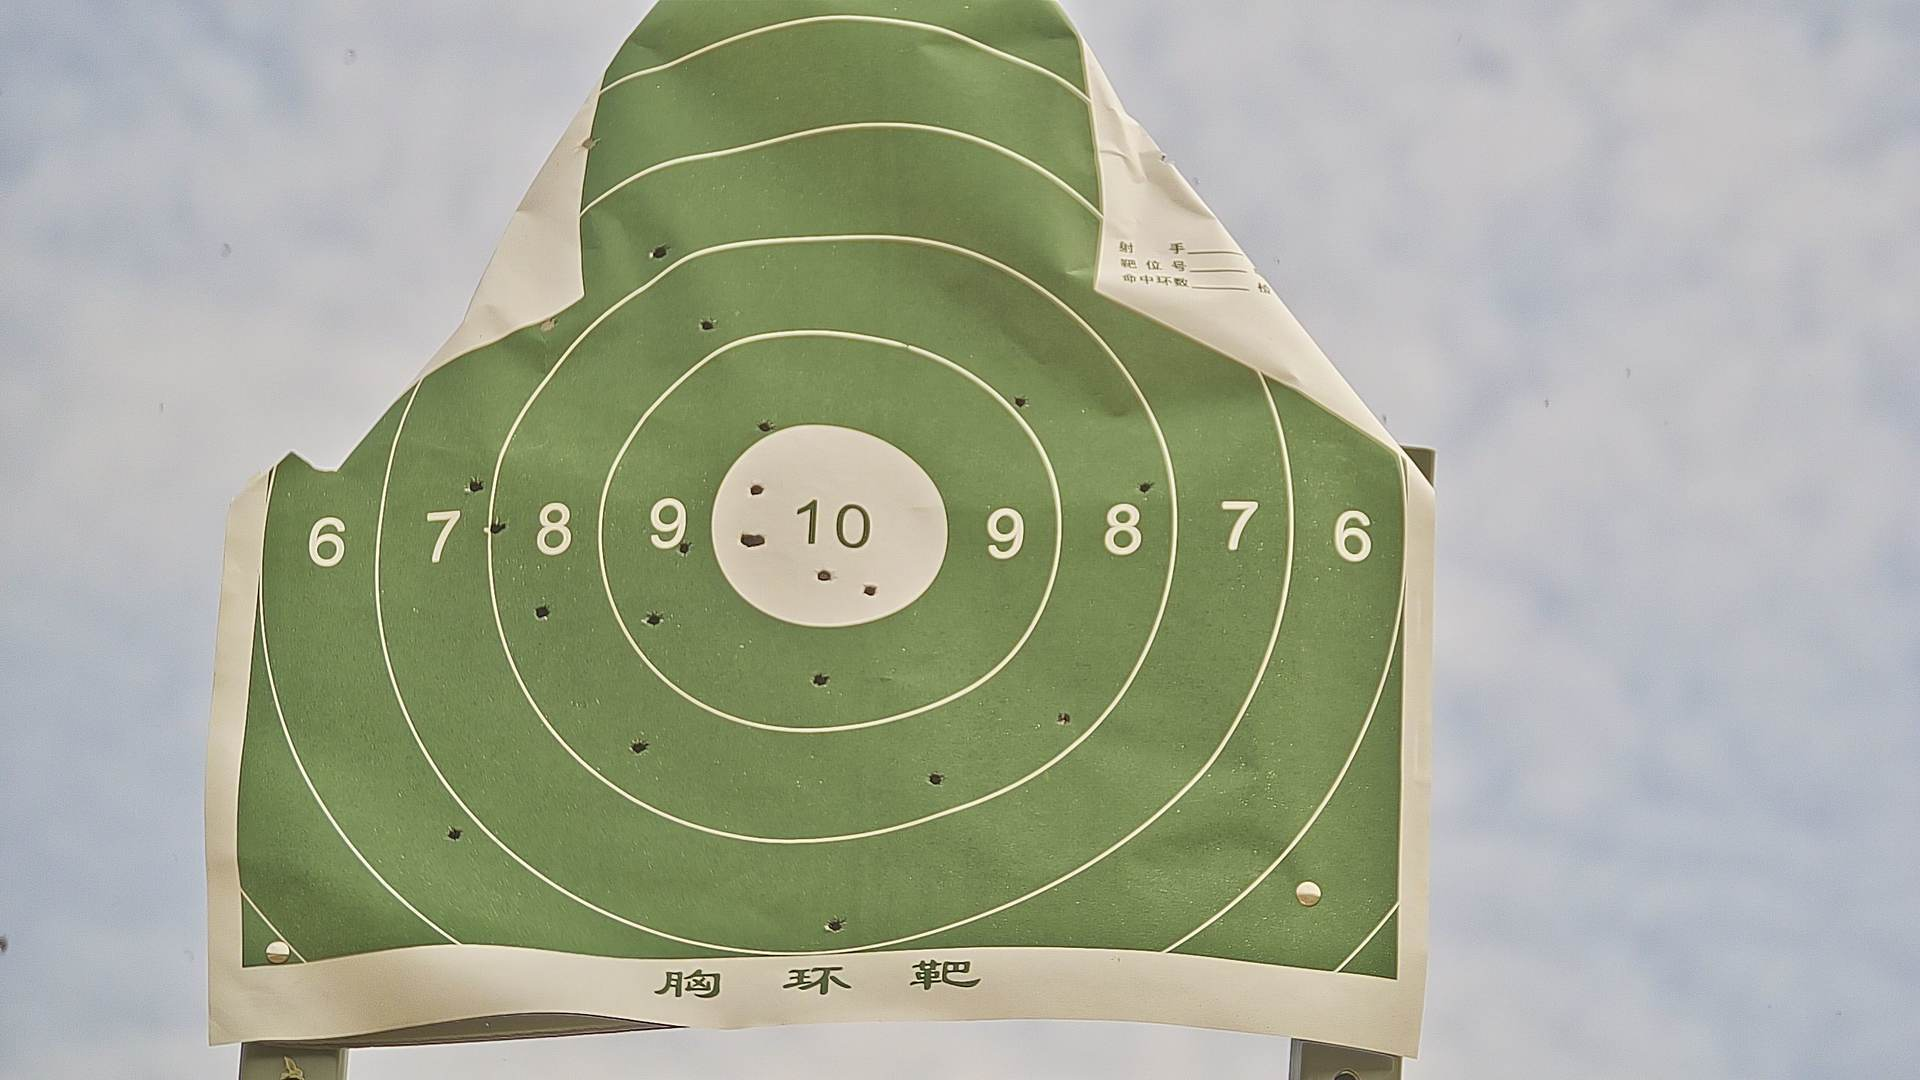hole: (644, 612, 665, 628), (467, 479, 484, 495), (812, 673, 829, 687), (488, 522, 506, 535), (757, 419, 773, 434), (749, 534, 765, 549), (676, 539, 690, 556), (827, 919, 844, 932), (738, 530, 750, 549), (583, 135, 599, 148), (535, 605, 549, 621), (748, 483, 764, 496), (928, 773, 944, 786), (1014, 396, 1029, 409), (1058, 713, 1072, 727), (651, 247, 667, 258), (699, 318, 715, 330), (539, 319, 556, 330), (630, 742, 647, 753), (818, 568, 831, 582), (448, 827, 460, 841), (864, 584, 878, 595), (1139, 483, 1153, 493)
kernel: (822, 524, 827, 527)
target: (237, 3, 1402, 982)
ten: (708, 419, 952, 632)
